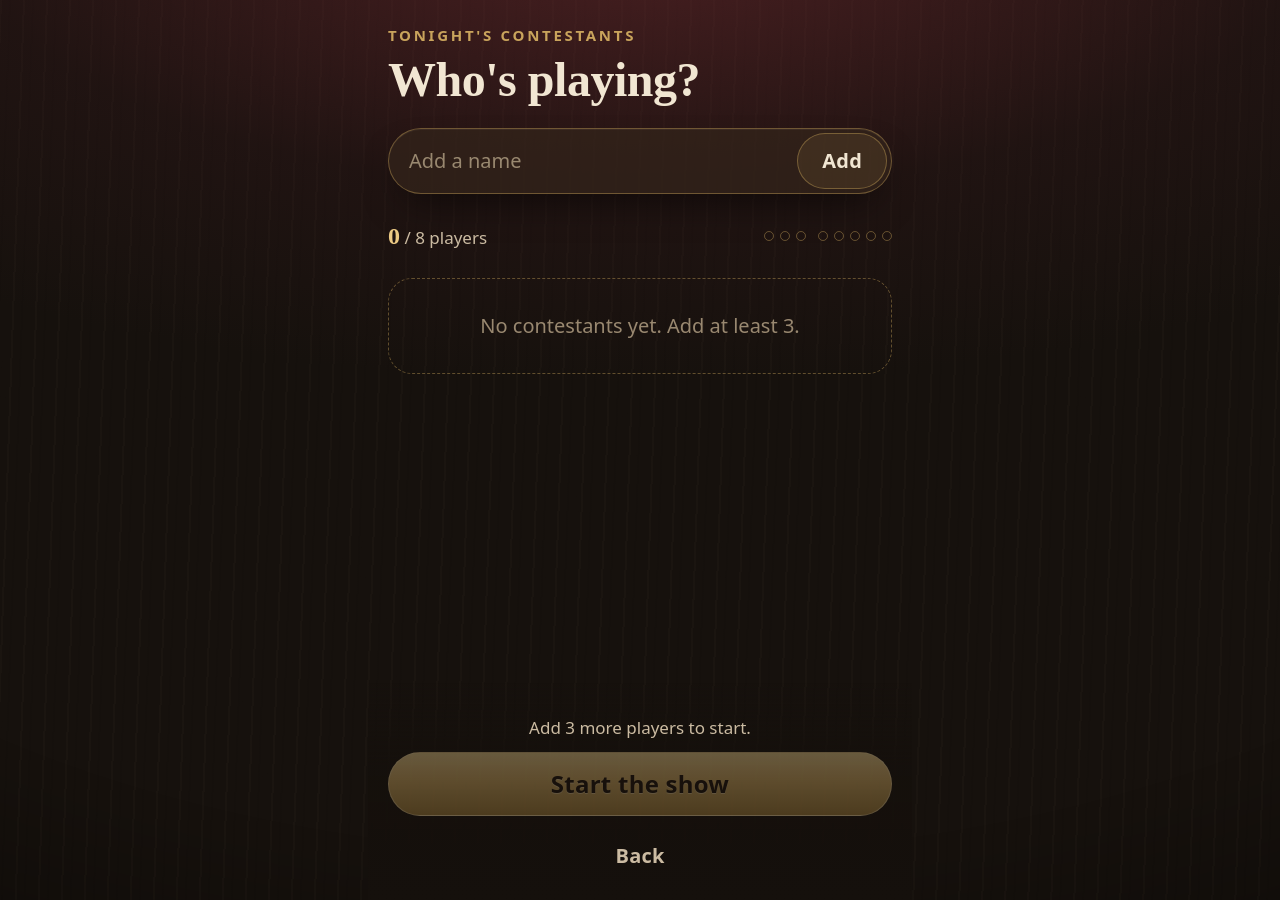
it: Setup › enables Start only once three valid players exist
In the field named "Player name": [591, 161] box [393,133,789,189], type "Ana"
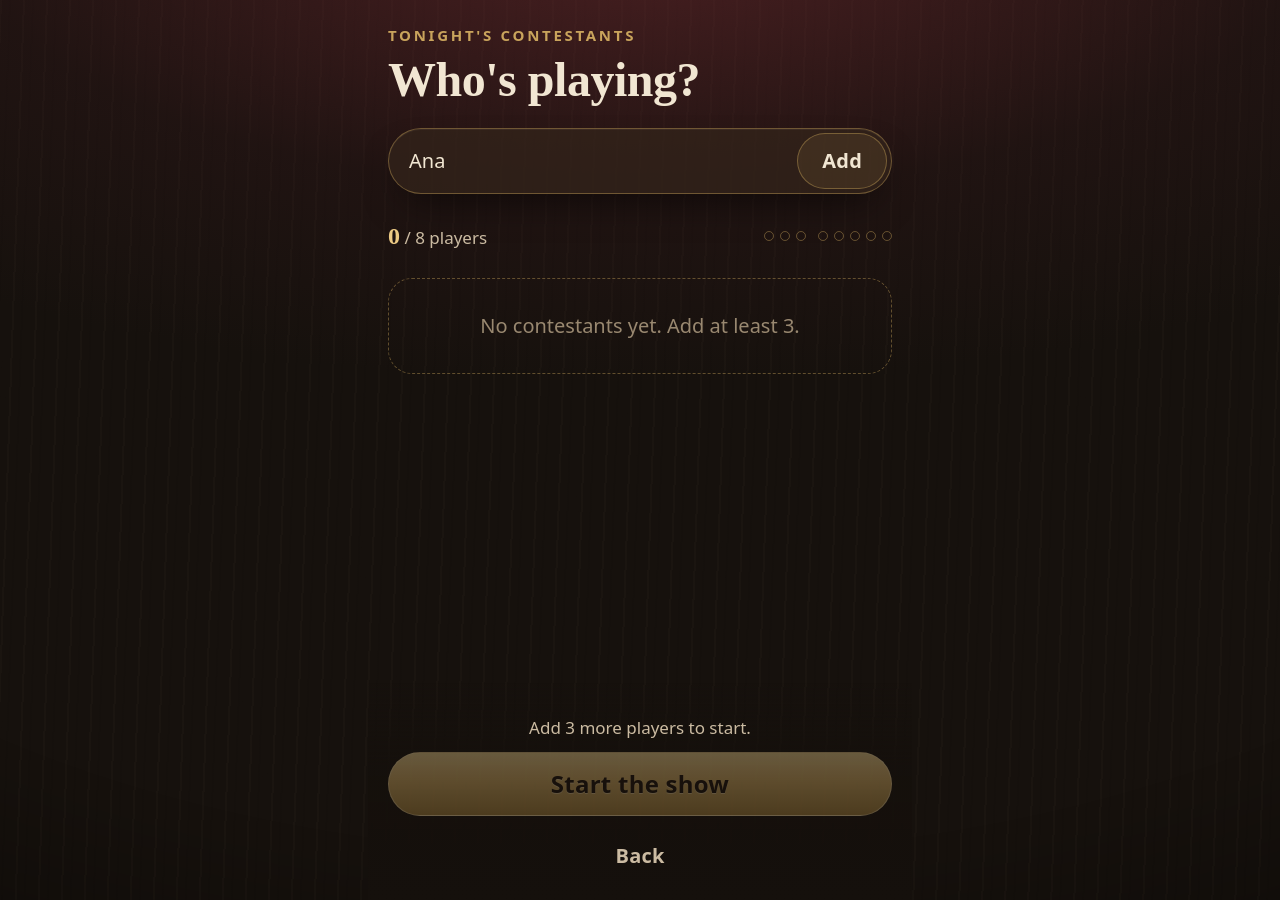
Click the button "Add": [842, 161] box [797,133,887,189]
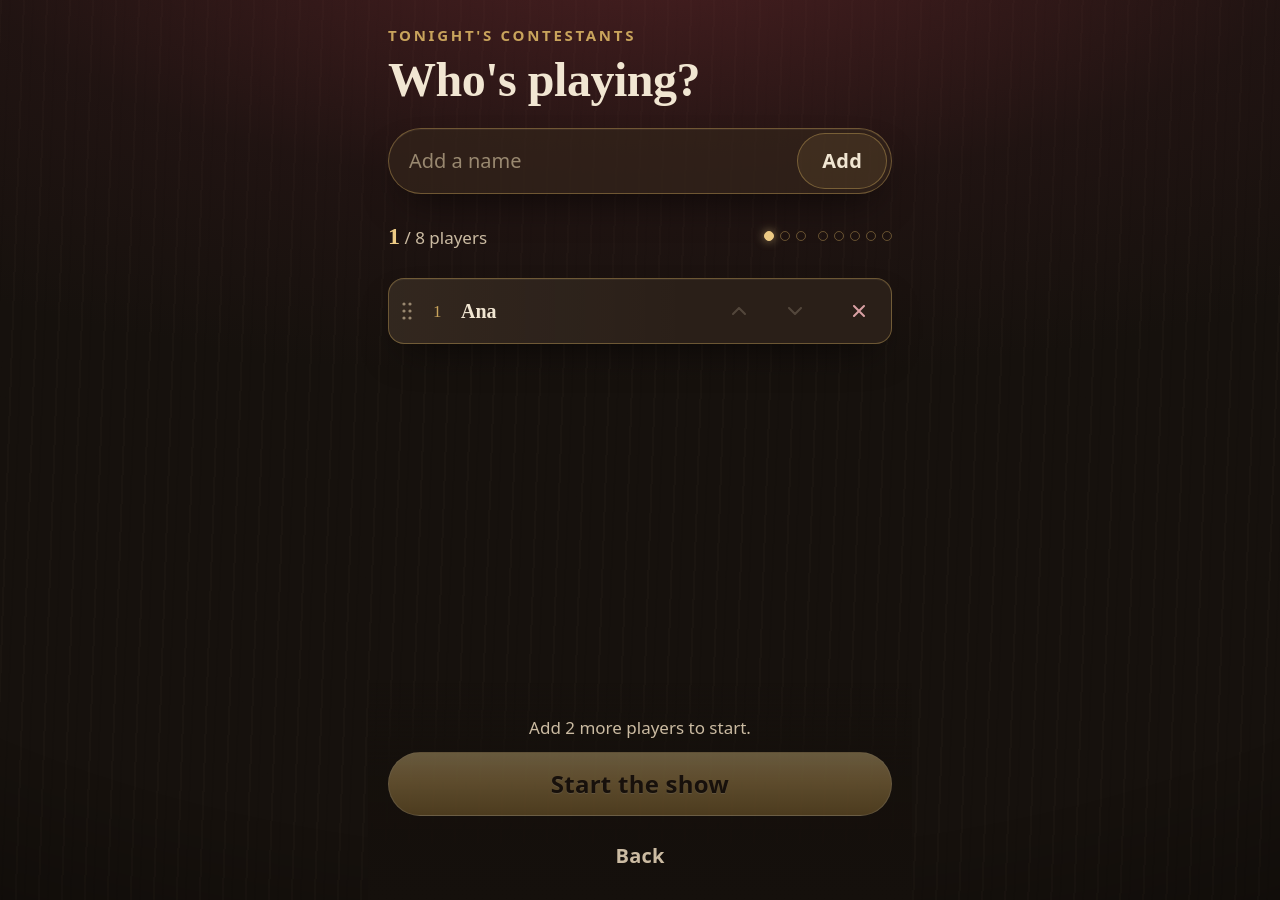
In the field named "Player name": [591, 161] box [393,133,789,189], type "Ben"
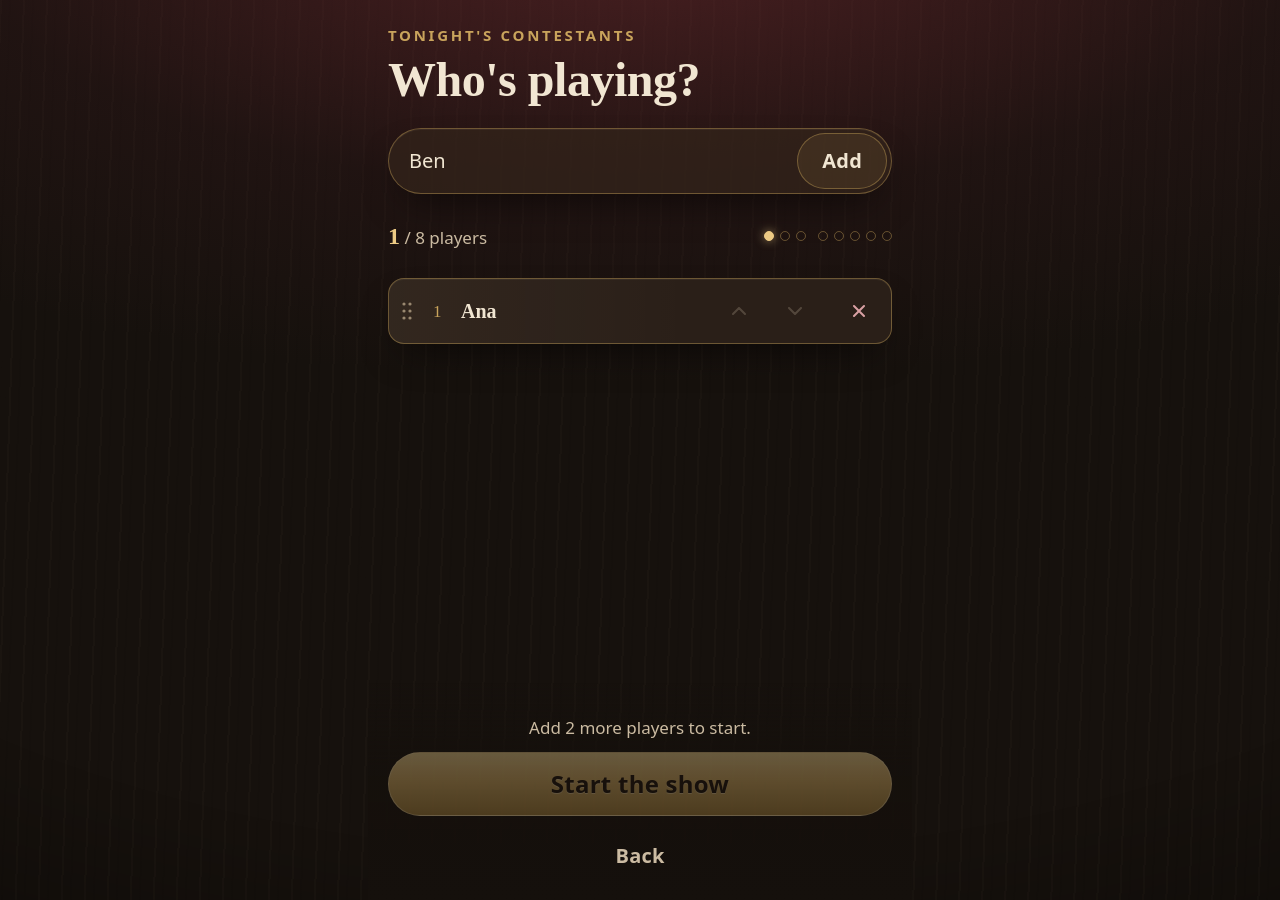
Click the button "Add": [842, 161] box [797,133,887,189]
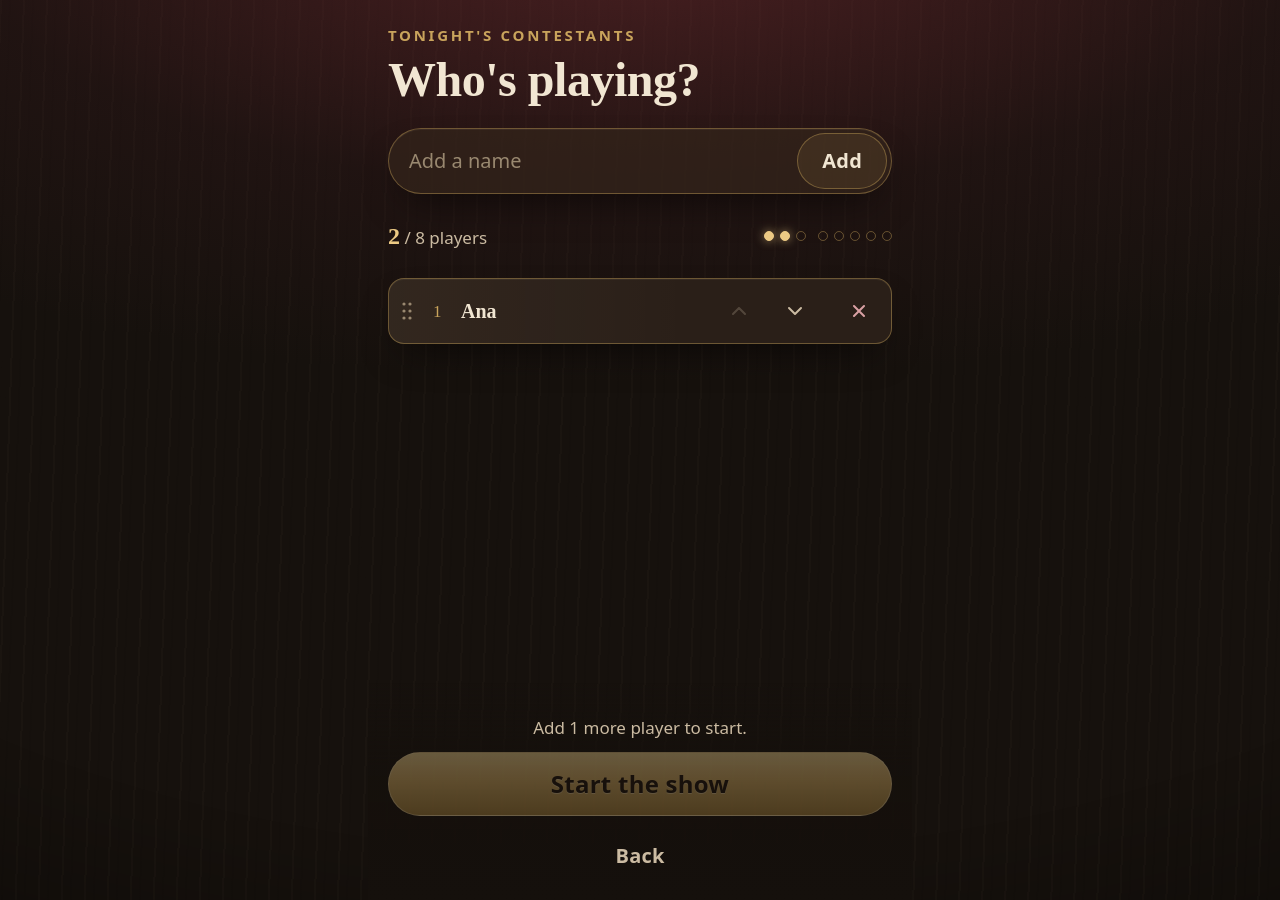
Expected: the button "Start the show" is disabled, [388,752,892,816]
Now the text "Add 1 more player to start." is shown, box [533,716,747,738]
In the field named "Player name": [591, 161] box [393,133,789,189], type "Cleo"
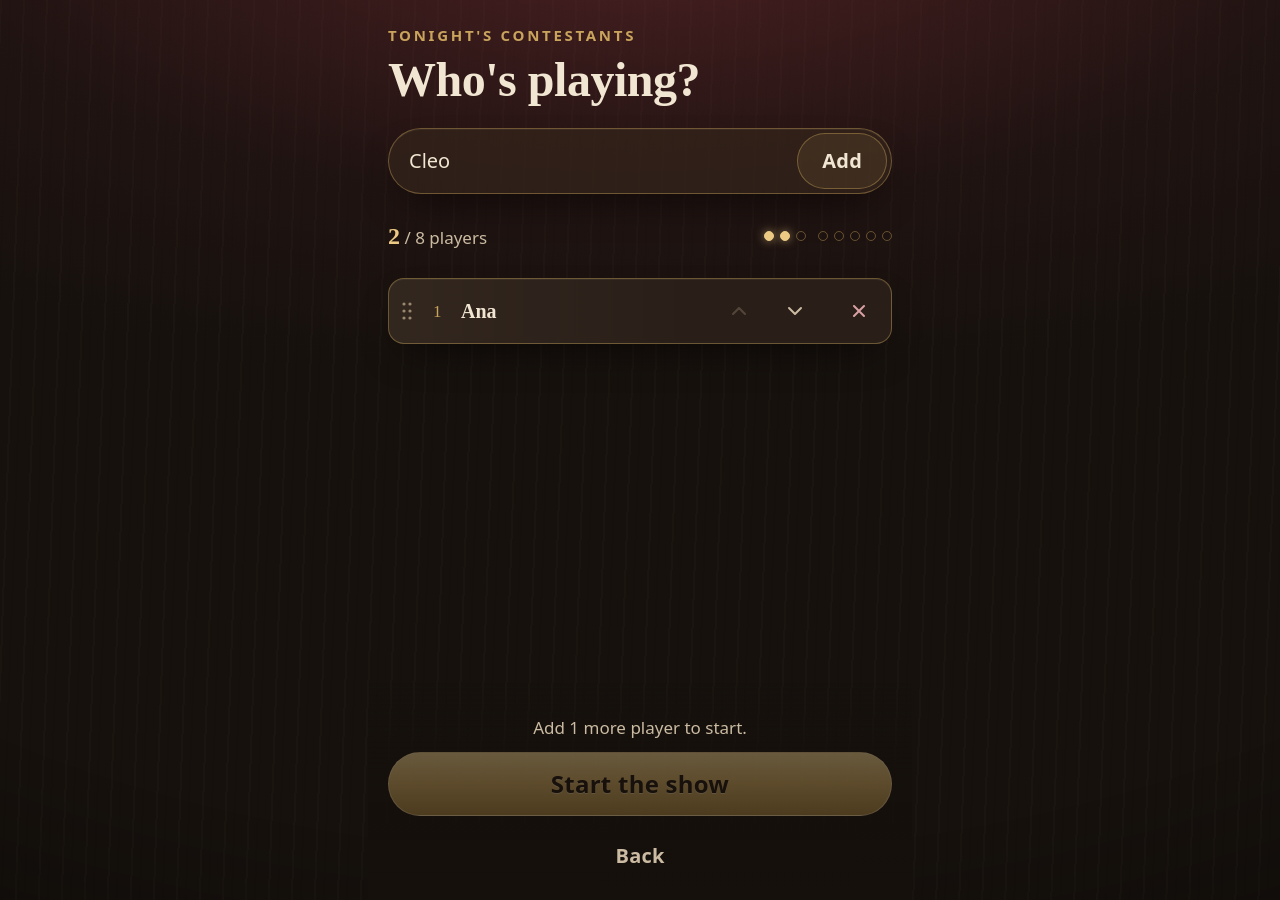
Click the button "Add": [842, 161] box [797,133,887,189]
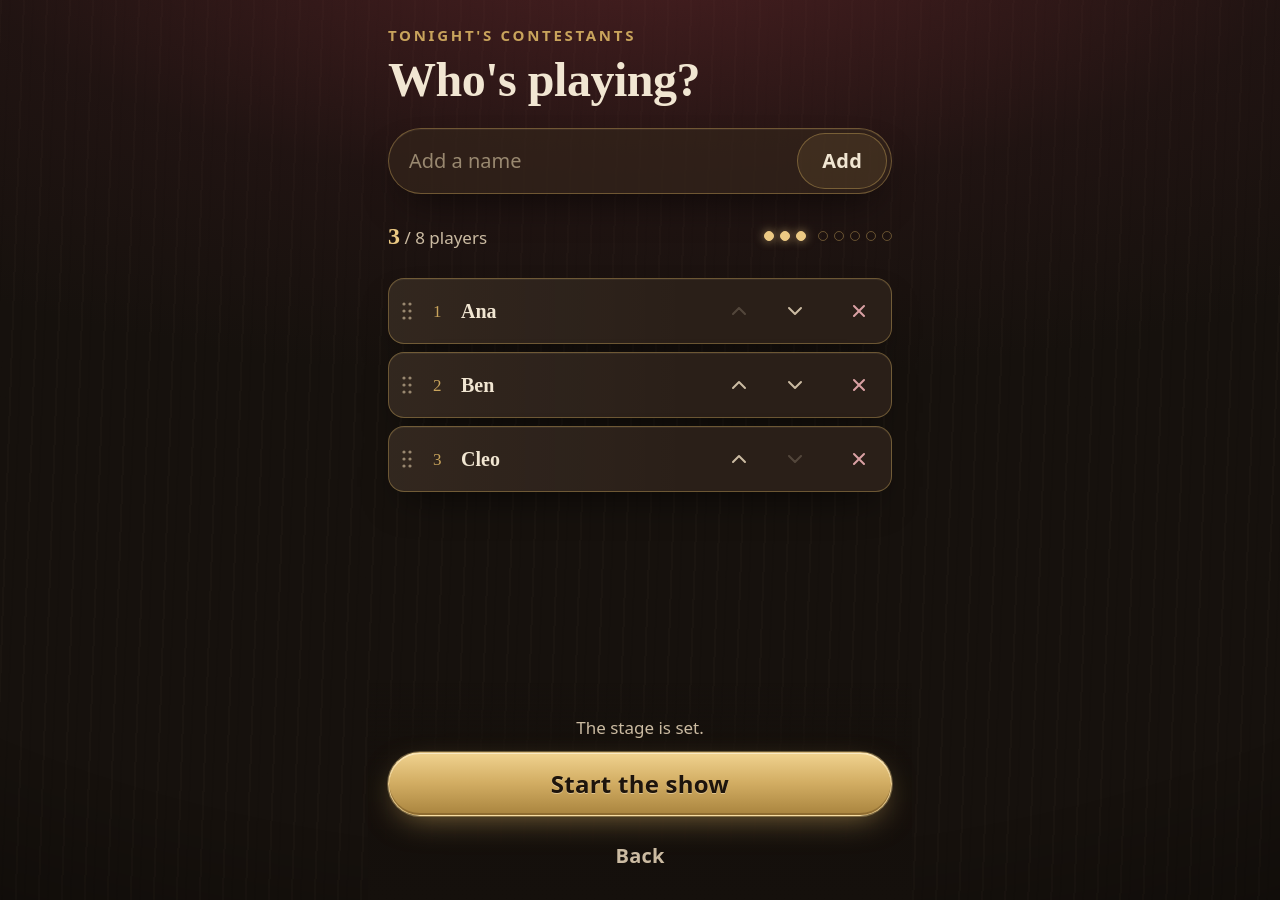
Now the button "Start the show" is enabled, box [388,752,892,816]
